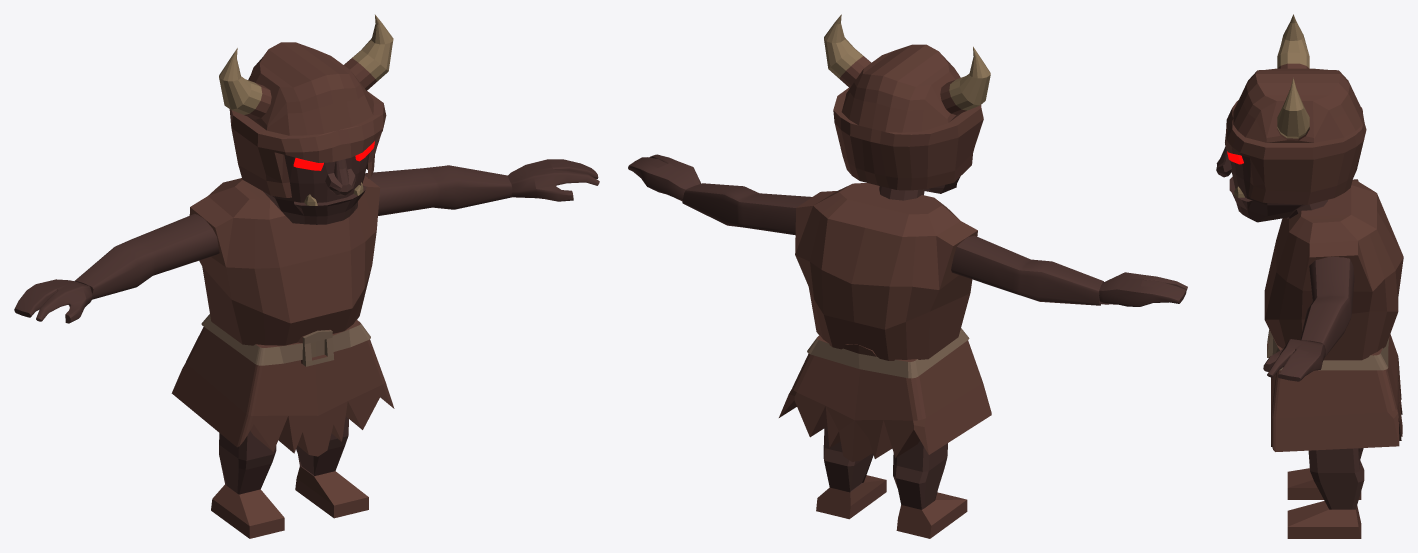
The picture shows the model from 3 angles, left to right: view 1: azimuth 30°, elevation 25°; view 2: azimuth 150°, elevation 25°; view 3: azimuth 270°, elevation 25°; orthographic projection. The views are drawn at different scales.
Visible parts, largest first — view 1: torso, pants, Head.001, arm, hand, foot, Head, legs, pants.001, horns; view 2: torso, Head.001, pants, arm, hand, legs, foot, horns, pants.001; view 3: torso, Head.001, pants, arm, foot, legs, horns, Head, hand, pants.001.
Part boxes in pixels (bbox=[...]): torso: bbox=[189, 175, 380, 345]; pants: bbox=[171, 319, 394, 456]; Head.001: bbox=[229, 42, 386, 197]; arm: bbox=[74, 165, 512, 299]; hand: bbox=[14, 159, 599, 323]; foot: bbox=[211, 466, 368, 538]; Head: bbox=[263, 153, 369, 224]; legs: bbox=[219, 416, 348, 494]; pants.001: bbox=[201, 314, 370, 366]; horns: bbox=[219, 14, 393, 114]; torso: bbox=[795, 183, 977, 360]; Head.001: bbox=[833, 44, 983, 190]; pants: bbox=[779, 335, 991, 461]; arm: bbox=[682, 183, 1103, 305]; hand: bbox=[628, 154, 1187, 306]; legs: bbox=[823, 426, 947, 509]; foot: bbox=[816, 475, 967, 538]; horns: bbox=[824, 14, 990, 110]; pants.001: bbox=[807, 328, 969, 378]; torso: bbox=[1264, 179, 1403, 360]; Head.001: bbox=[1225, 63, 1366, 204]; pants: bbox=[1267, 334, 1402, 451]; arm: bbox=[1300, 256, 1354, 357]; foot: bbox=[1287, 468, 1361, 538]; legs: bbox=[1308, 448, 1364, 509]; horns: bbox=[1277, 14, 1309, 138]; Head: bbox=[1216, 147, 1305, 222]; hand: bbox=[1263, 339, 1325, 381]; pants.001: bbox=[1267, 329, 1389, 370].
Size of the model in its own units: 614 by 501 by 183.
